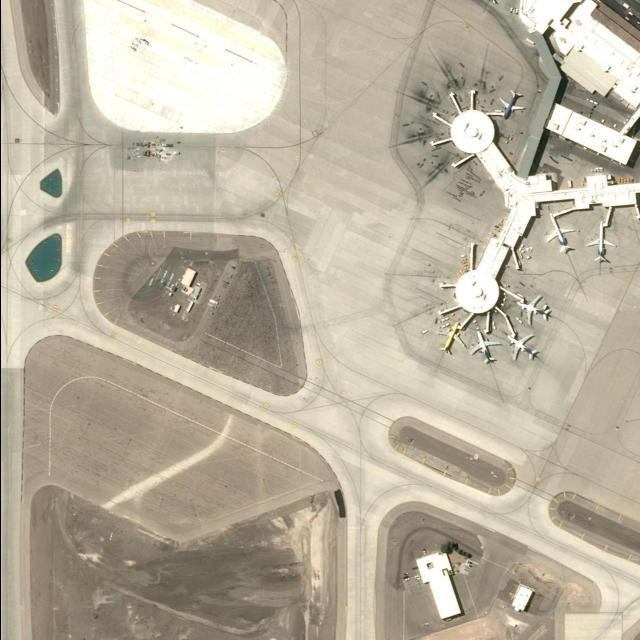Aircraft: (587, 220, 618, 265), (469, 331, 504, 368), (546, 214, 576, 255), (518, 295, 552, 327), (436, 320, 466, 356), (497, 89, 528, 123), (507, 333, 541, 363)
